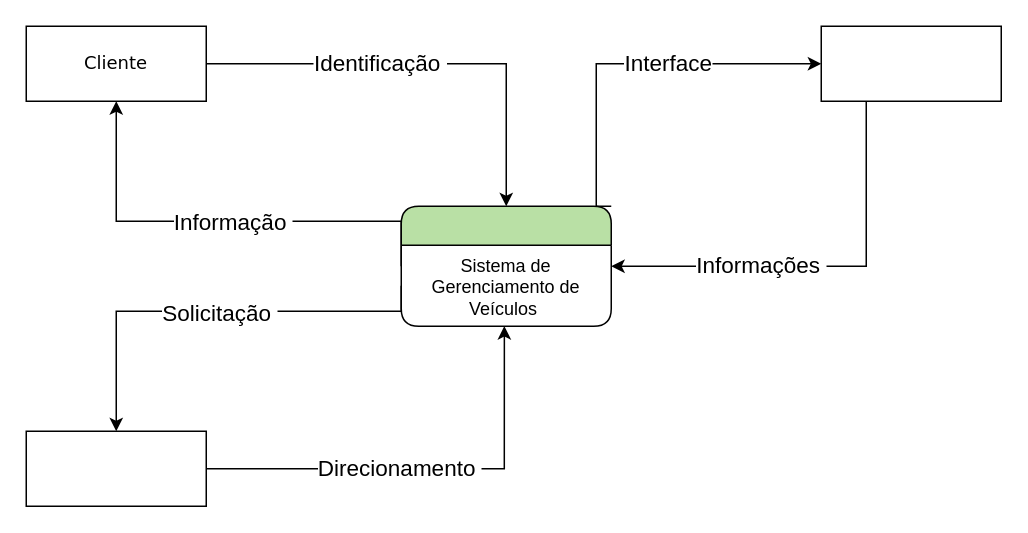
Some shapes in this 1028 by 533 pixel diagram are drawn without their labels. Each missing label, with the centre of its shape:
Aplicativo: point (910, 63)
Veículo: point (115, 468)
